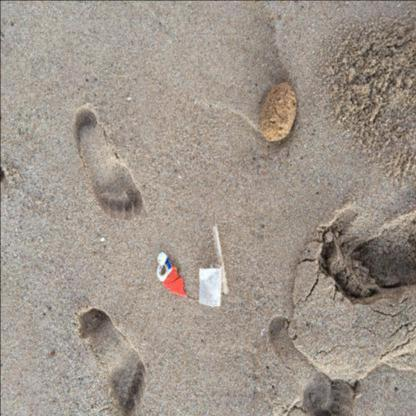Other plastic: (163, 265, 186, 296), (156, 252, 171, 281)
Plastic bag - wrapper: (212, 225, 228, 294), (198, 267, 221, 306)
